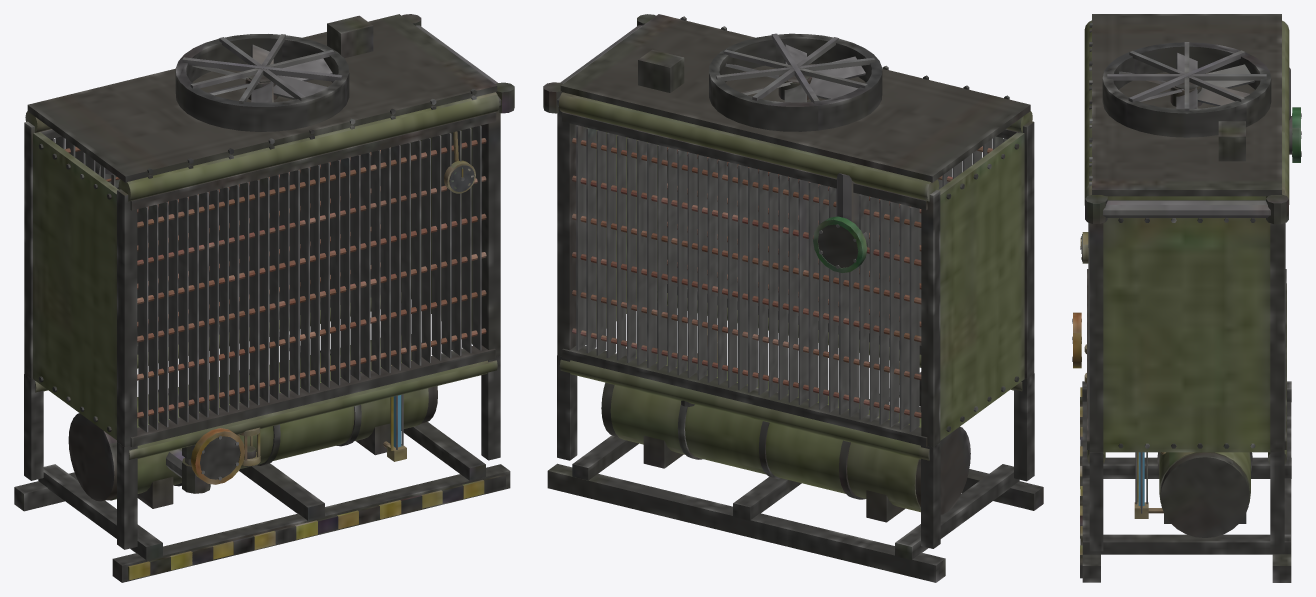
Rendered from feCondenser.glb.
3 renders of one model, left to right at view 1: azimuth 30°, elevation 25°; view 2: azimuth 150°, elevation 25°; view 3: azimuth 270°, elevation 25°, orthographic. The views are drawn at different scales.
Parts seen in each view (by area): view 1: feCondenser_Base, FeFan_Condenser; view 2: feCondenser_Base, FeFan_Condenser; view 3: feCondenser_Base, FeFan_Condenser, FeLevelLiquid.
Part boxes in pixels (x1=…): feCondenser_Base: x1=14, y1=14, x2=514, y2=582; FeFan_Condenser: x1=192, y1=44, x2=332, y2=102; feCondenser_Base: x1=543, y1=14, x2=1043, y2=582; FeFan_Condenser: x1=725, y1=44, x2=865, y2=102; feCondenser_Base: x1=1072, y1=14, x2=1301, y2=582; FeFan_Condenser: x1=1119, y1=53, x2=1254, y2=108; FeLevelLiquid: x1=1138, y1=452, x2=1144, y2=505.
Size of the model in its own units: 1.97 by 2.03 by 1.01.
2 materials, 1 textured.
